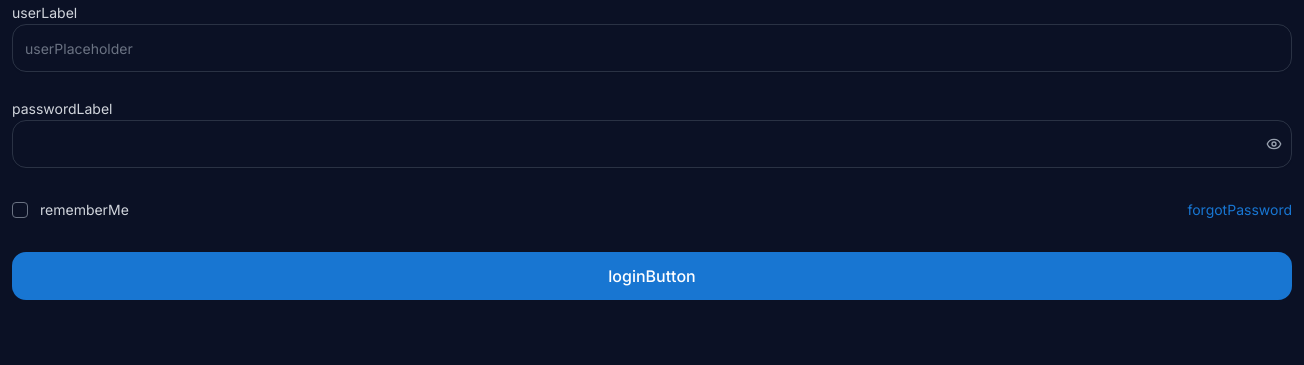
it: LoginForm › Form validation › should show validation error for empty email on submit
Click the button "loginButton" at point(652, 276), box left=12, top=252, right=1292, bottom=300
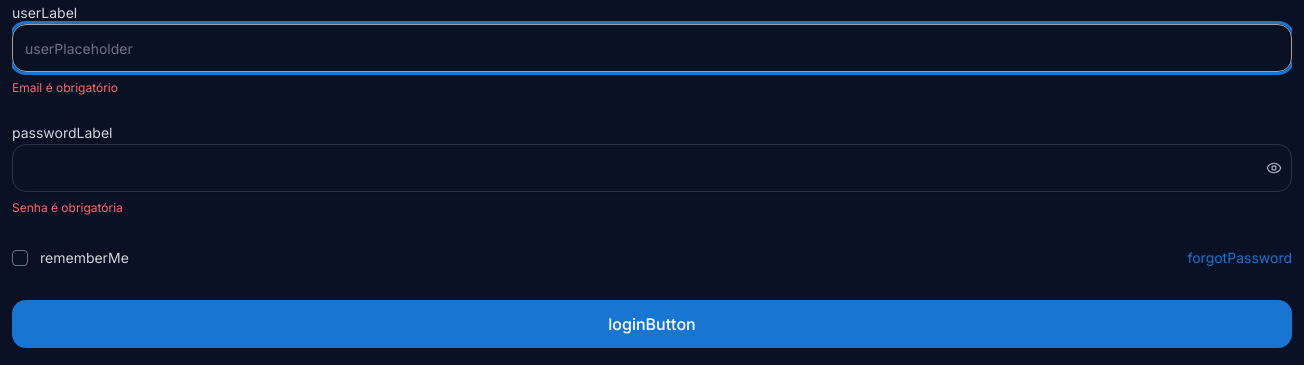
Expected: the text "Email é obrigatório" is shown, left=12, top=80, right=118, bottom=95
